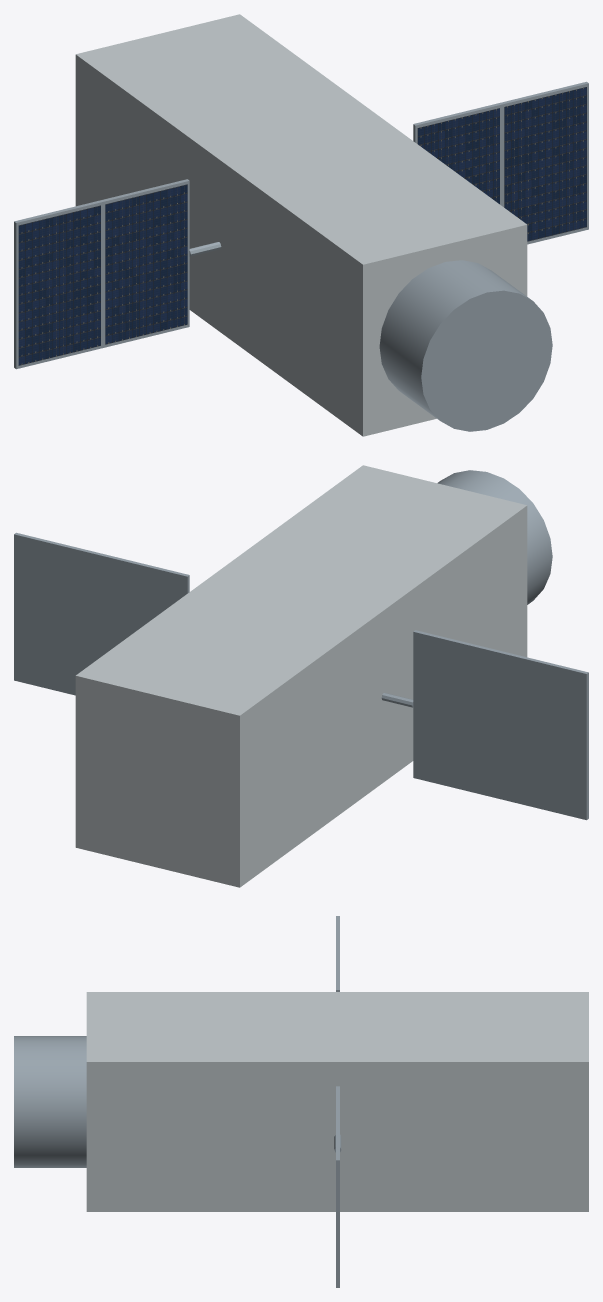
File: ref-dsp-b18-25669.glb
3 views of the same model, one above another, from view 1: azimuth 30°, elevation 25°; view 2: azimuth 150°, elevation 25°; view 3: azimuth 270°, elevation 25° (orthographic). The views are drawn at different scales.
Parts seen in each view (by area): view 1: Spacecraft body, Photovoltaic laminates (×4), Cylindrical section, Array frame (×4); view 2: Spacecraft body, Array frame (×4), Cylindrical section; view 3: Spacecraft body, Cylindrical section, Array frame.
Part boxes in pixels (<box>): Spacecraft body: <box>75,14,527,436</box>; Photovoltaic laminates (×4): <box>18,87,586,365</box>; Cylindrical section: <box>379,260,552,431</box>; Array frame (×4): <box>14,81,588,369</box>; Spacecraft body: <box>75,465,527,887</box>; Array frame (×4): <box>14,532,588,820</box>; Cylindrical section: <box>437,470,552,604</box>; Spacecraft body: <box>86,992,588,1211</box>; Cylindrical section: <box>14,1036,86,1167</box>; Array frame: <box>336,1123,339,1287</box>.
Size of the model in its own units: 11.5 by 3.3 by 11.45.
3 materials, 1 textured.
